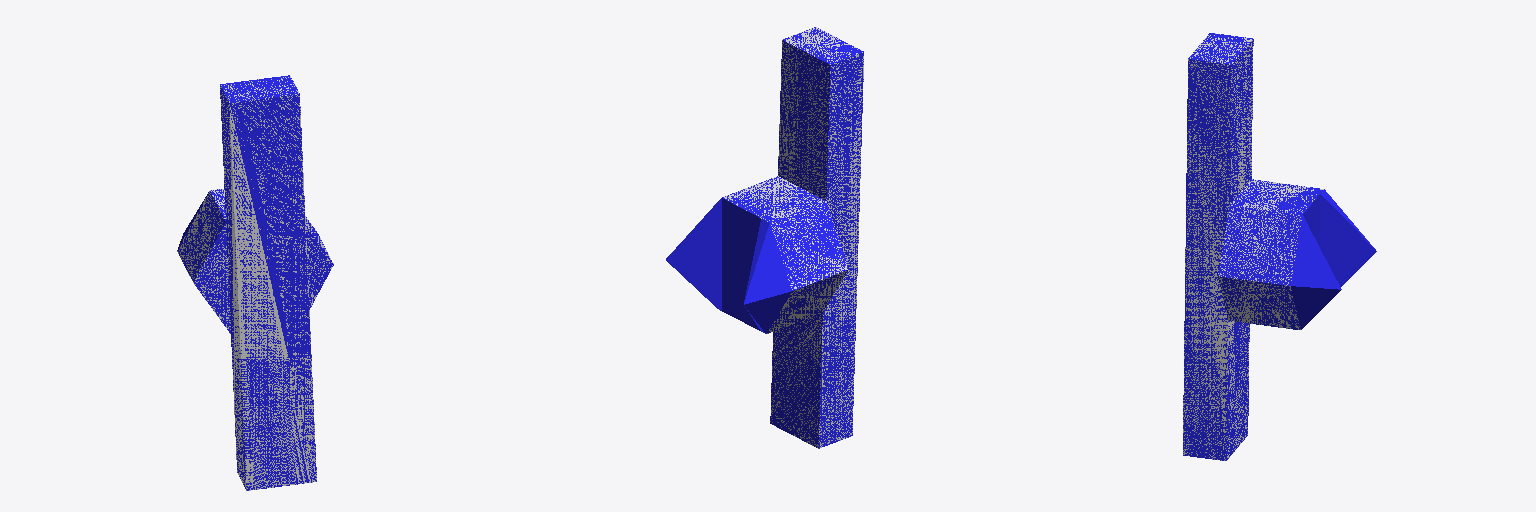
The model's file is GasSac_Valve_Openned.obj.
3 renders of one model, left to right at view 1: azimuth 30°, elevation 25°; view 2: azimuth 150°, elevation 25°; view 3: azimuth 270°, elevation 25°, orthographic.
Visible parts, largest first — view 1: Mesh1 Model; view 2: Mesh1 Model; view 3: Mesh1 Model.
Part boxes in pixels (x1,y1,x2,y2): Mesh1 Model: (177, 75, 333, 490); Mesh1 Model: (666, 27, 863, 448); Mesh1 Model: (1183, 33, 1376, 460).
Size of the model in its own units: 0.0109 by 0.0284 by 0.0128.